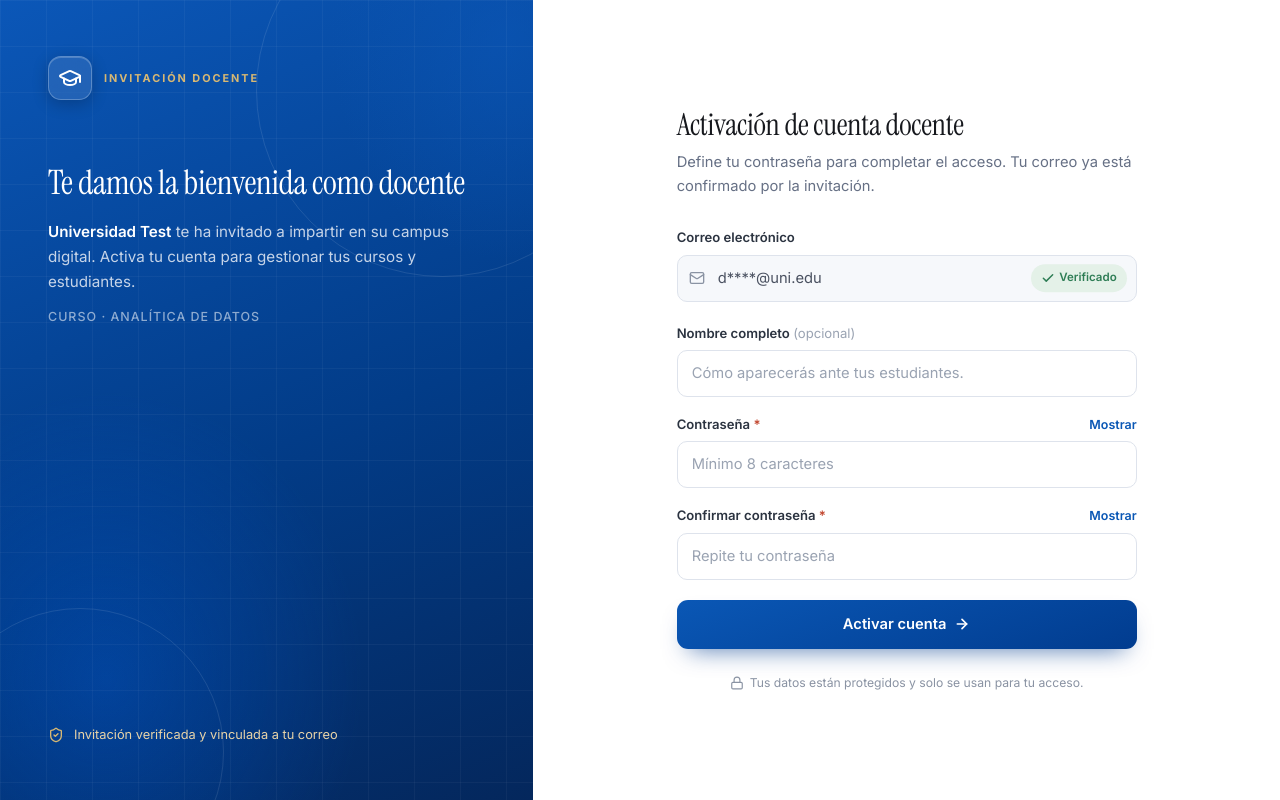
Test: TeacherActivatePage › clears a prior submit error when the password is edited
The image size is (1280, 800).
Expected: the button "Activar cuenta" is shown, x1=677 y1=600 x2=1137 y2=649
Type "password123" into the password field labelled "Contraseña *" at (907, 465), box x1=677 y1=441 x2=1137 y2=488
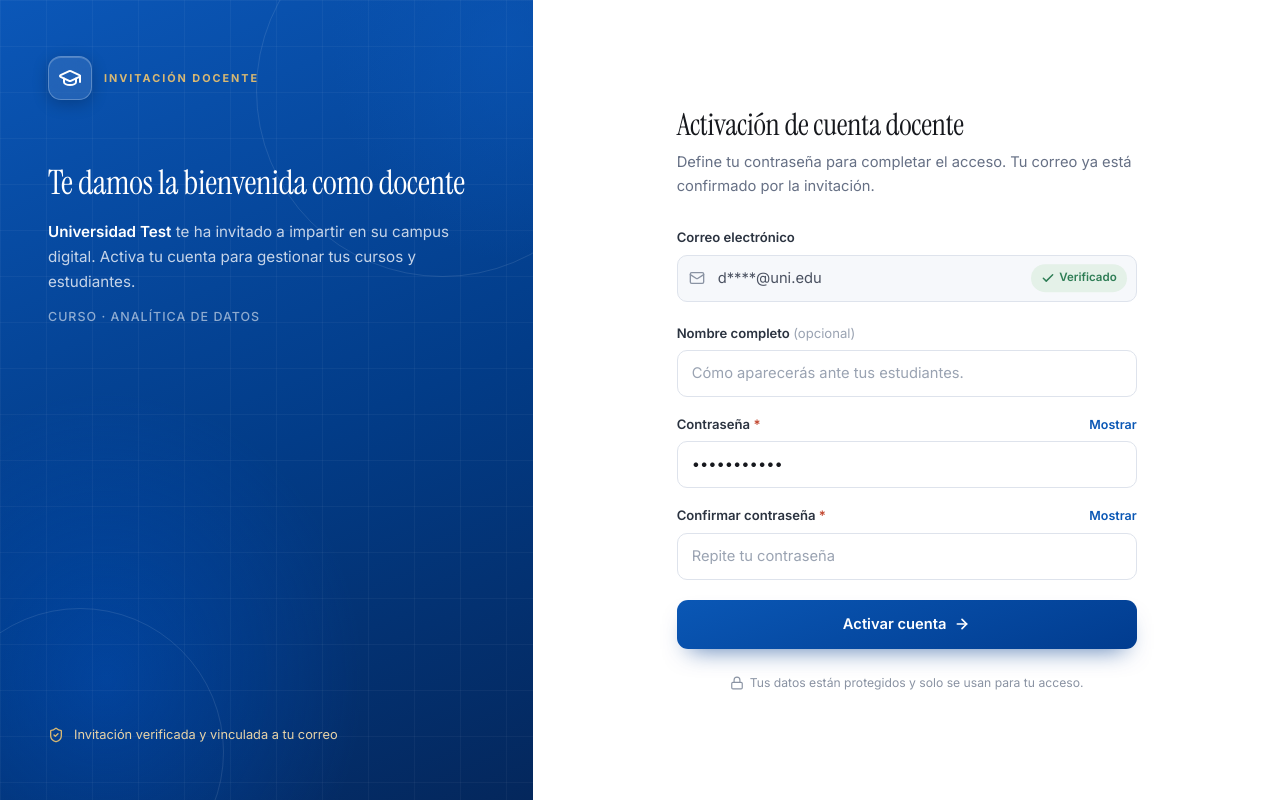
Type "different456" into the password field labelled "Confirmar contraseña *" at (907, 556), box x1=677 y1=533 x2=1137 y2=580
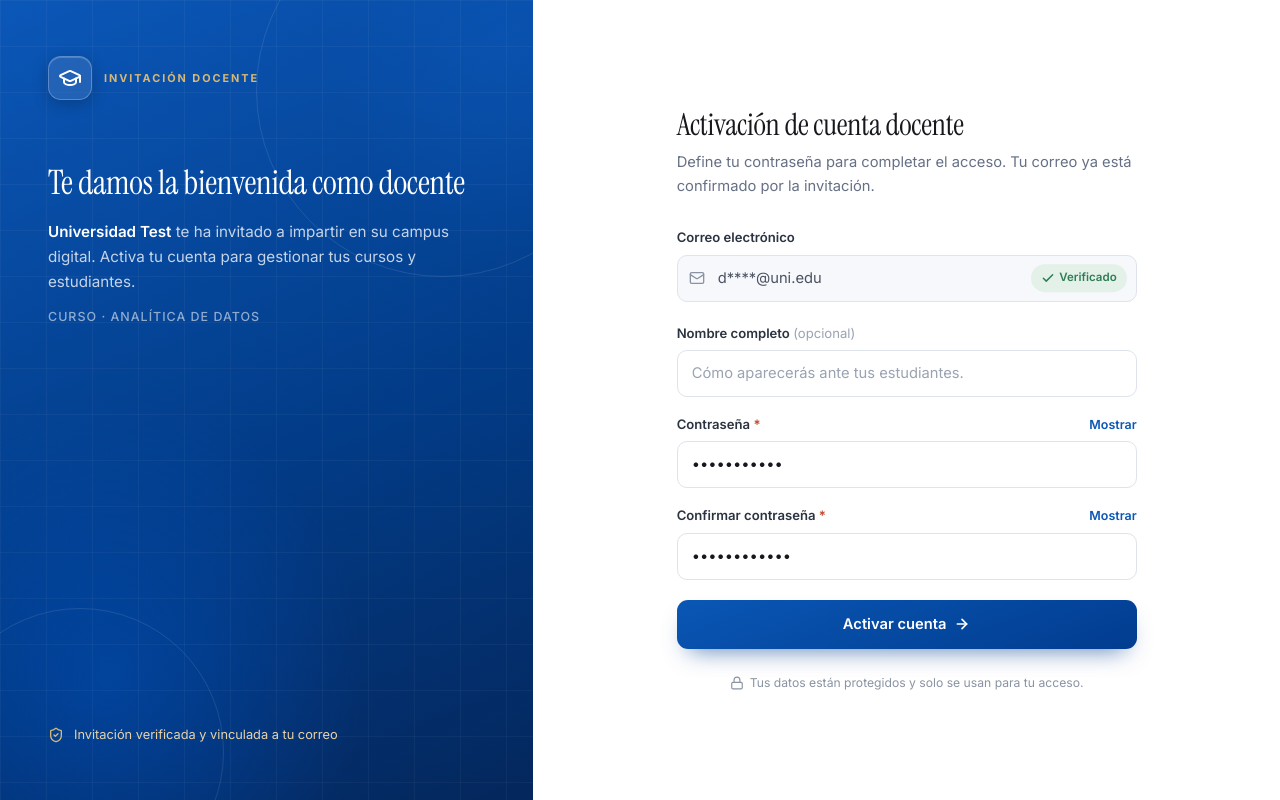
Submit the form, box x1=677 y1=322 x2=1137 y2=649
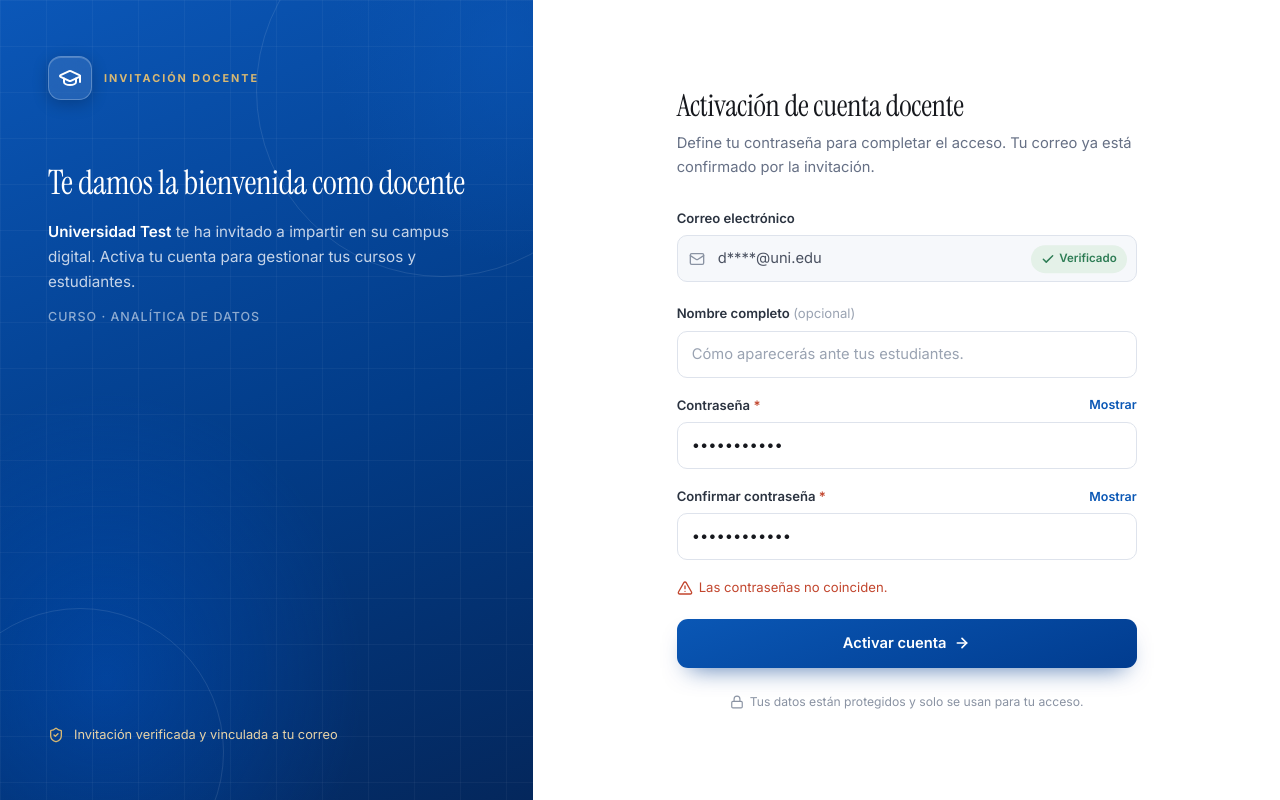
Expected: the text "Las contraseñas no coinciden." is shown, x1=677 y1=580 x2=888 y2=596
Type "password123" into the password field labelled "Confirmar contraseña *" at (907, 537), box x1=677 y1=513 x2=1137 y2=560
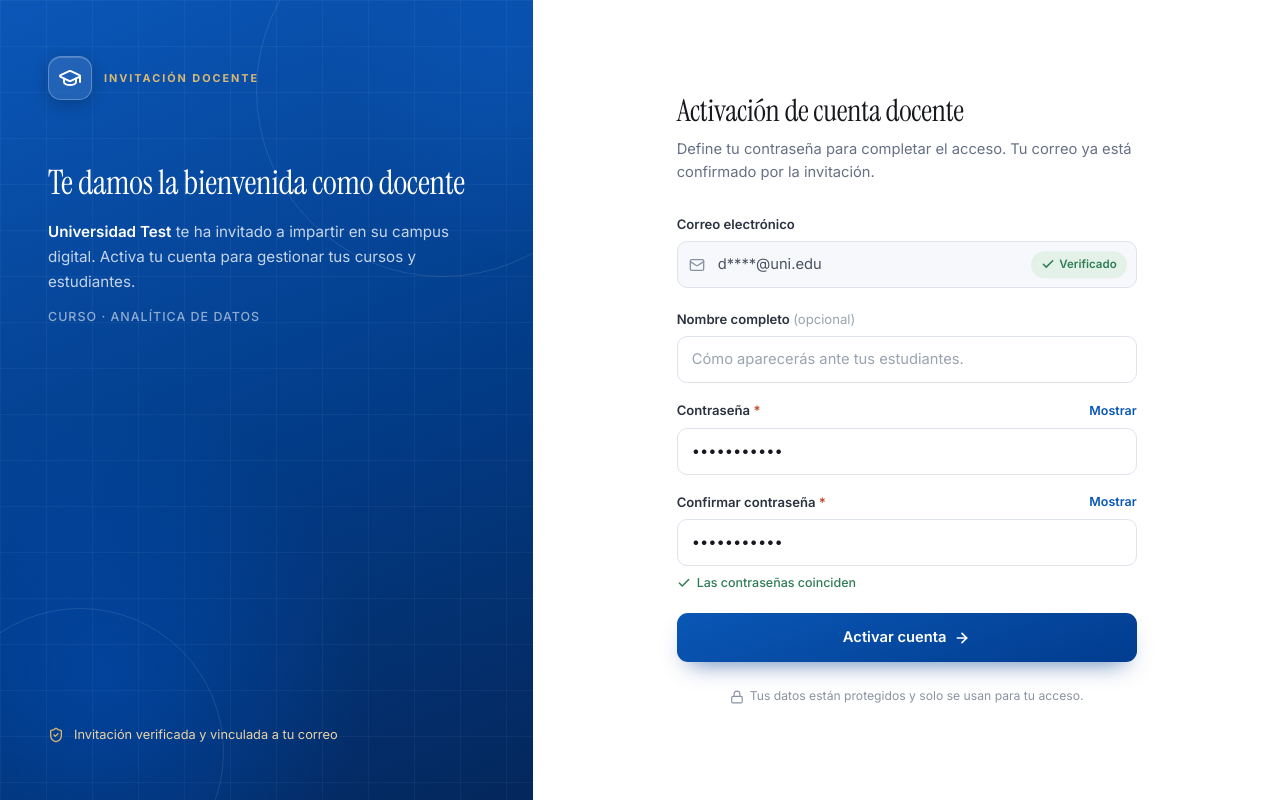
Expected: the text "Las contraseñas no coinciden" is gone
Expected: the text "Las contraseñas coinciden" is shown, x1=677 y1=575 x2=856 y2=590
